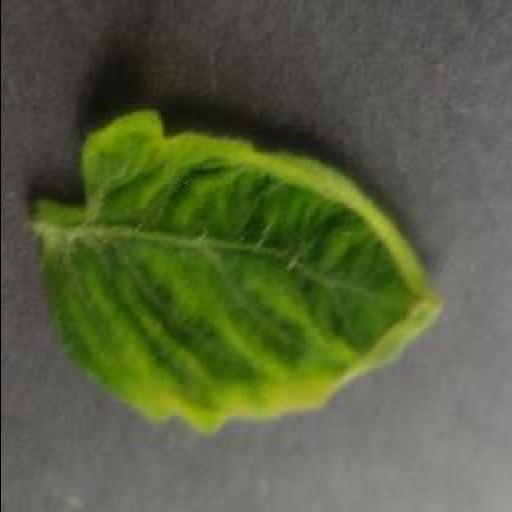disease_tomato: (36, 104, 444, 438)
